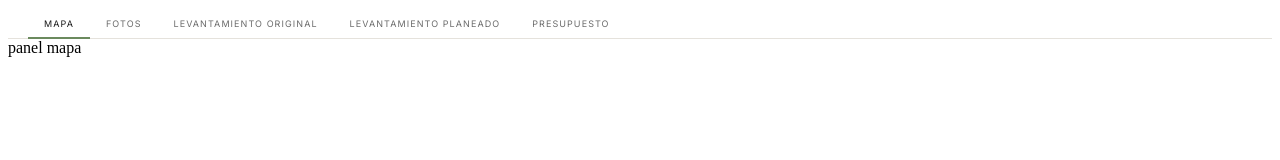
Test: MediaTabs › switches between two non-default tabs, not just away from the first one
Click the button "FOTOS" at (124, 24), box [90,8,158,39]
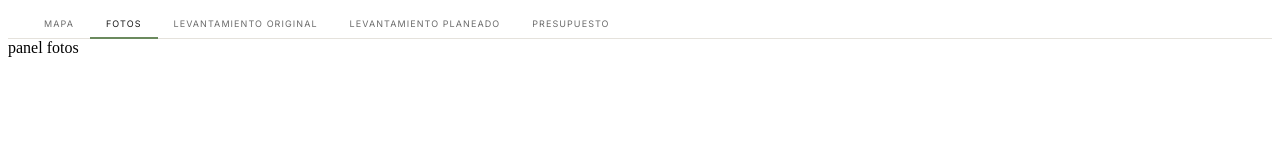
Click the button "LEVANTAMIENTO PLANEADO" at (425, 24), box [334,8,516,39]
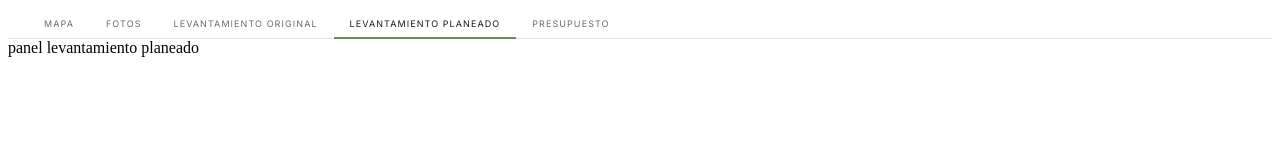
Now the text "panel levantamiento planeado" is shown, box [8,39,199,56]
Now the text "panel fotos" is gone
